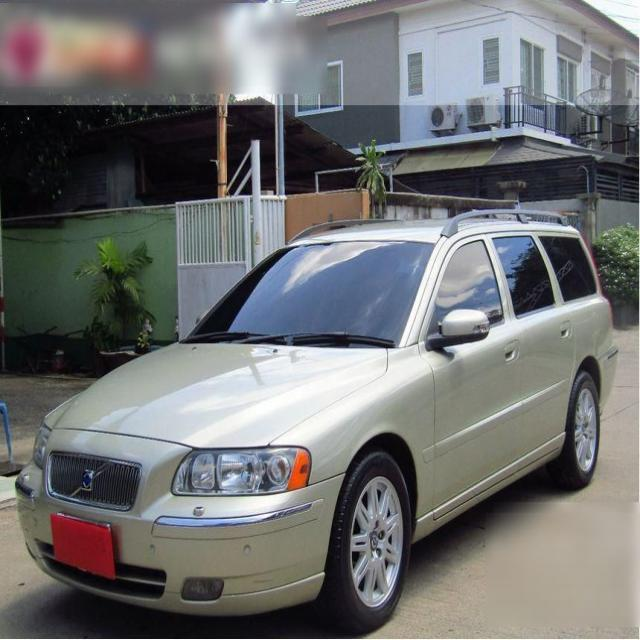back_left_door: (487, 232, 575, 469)
front_bumper: (15, 428, 345, 614)
front_glass: (181, 241, 436, 347)
front_left_light: (173, 445, 310, 498)
front_right_door: (414, 232, 521, 518)
front_right_light: (33, 417, 51, 476)
hood: (43, 340, 388, 450)
left_mirror: (439, 309, 491, 349)
wheel: (328, 368, 601, 630)
